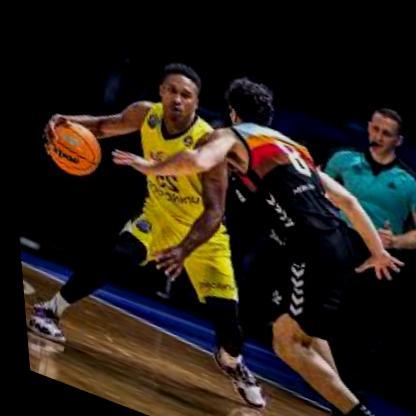basketball: (37, 111, 108, 184)
